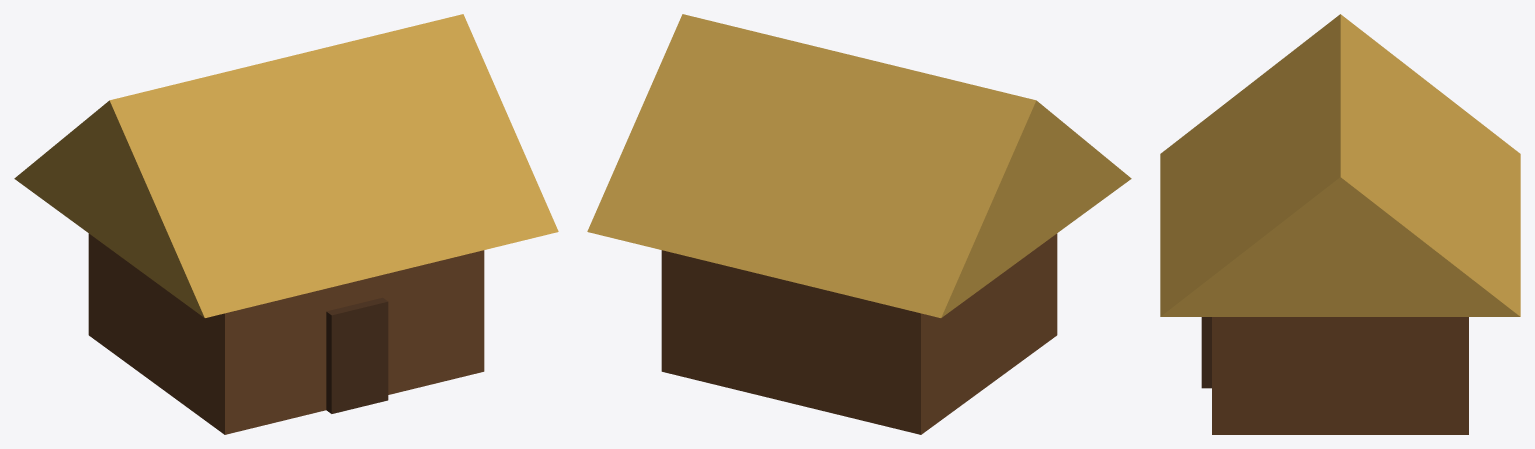
Rendered from hut.fbx.
3 renders of one model, left to right at view 1: azimuth 30°, elevation 25°; view 2: azimuth 150°, elevation 25°; view 3: azimuth 270°, elevation 25°, orthographic. The views are drawn at different scales.
Visible parts, largest first — view 1: hut; view 2: hut; view 3: hut.
Boxes of the visible parts, x1,y1,x2,y2 form: hut: [14, 14, 558, 434]; hut: [587, 14, 1131, 434]; hut: [1160, 14, 1520, 434].
Bounding box in the file's own units: 0.75 × 0.6 × 0.7.
